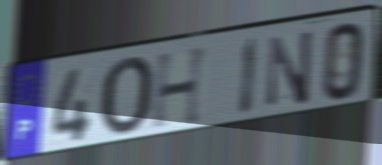0: (320, 19, 367, 103)
4: (49, 65, 93, 145)
H: (149, 42, 212, 133)
I: (237, 34, 261, 118)
N: (265, 26, 316, 110)
O: (98, 54, 157, 140)
